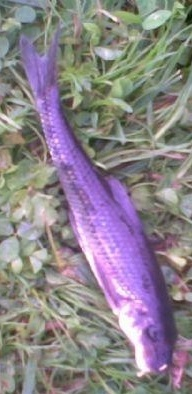Gobio gobio: (20, 19, 172, 374)
